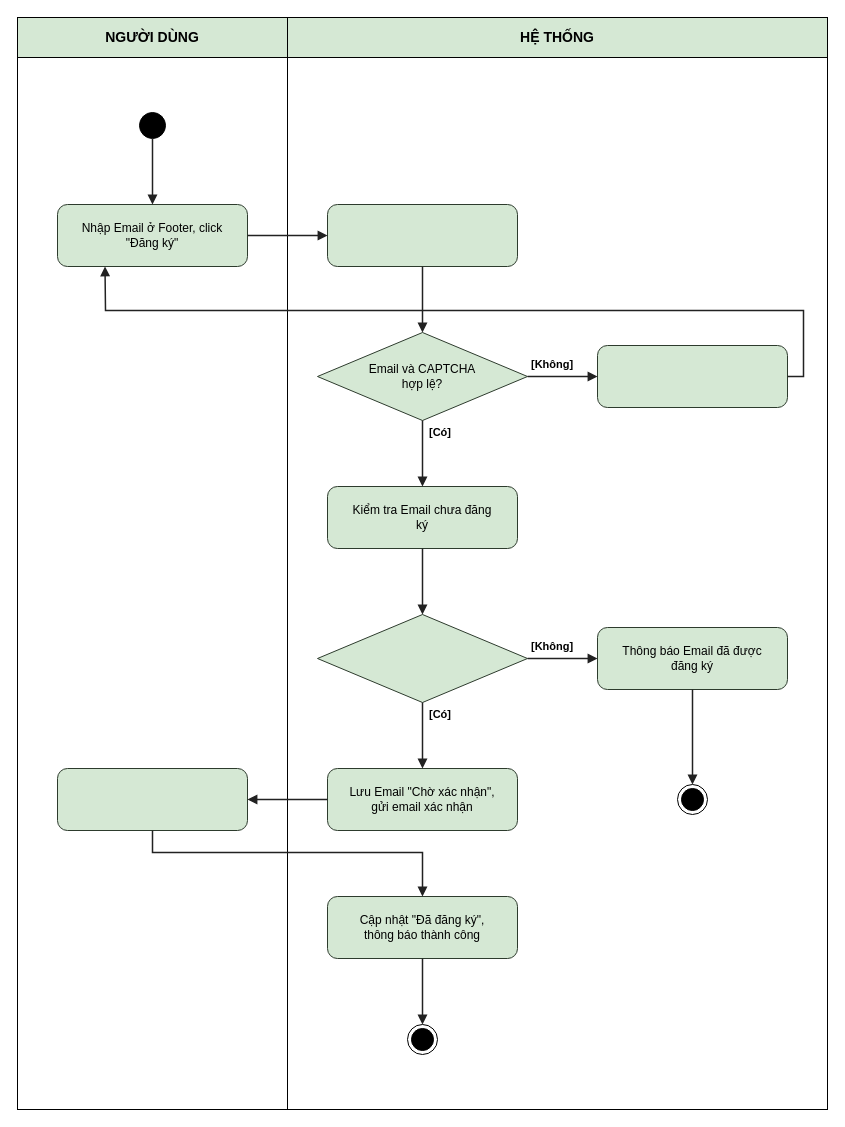
Some shapes in this 845 by 1127 pixel diagram are drawn without their labels. The centre of each missing label's shape, as x and y in pixels:
Click liên kết xác nhận trong email: point (152, 799)
Email chưa đăng ký?: point (422, 658)
Kiểm tra định dạng Email và CAPTCHA: point (422, 235)
Thông báo lỗi Email hoặc CAPTCHA: point (692, 376)
